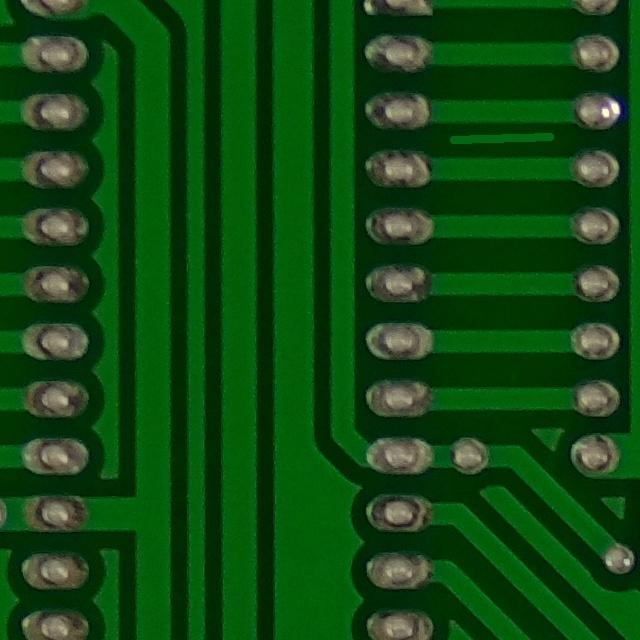spurious_copper: (439, 113, 569, 166)
